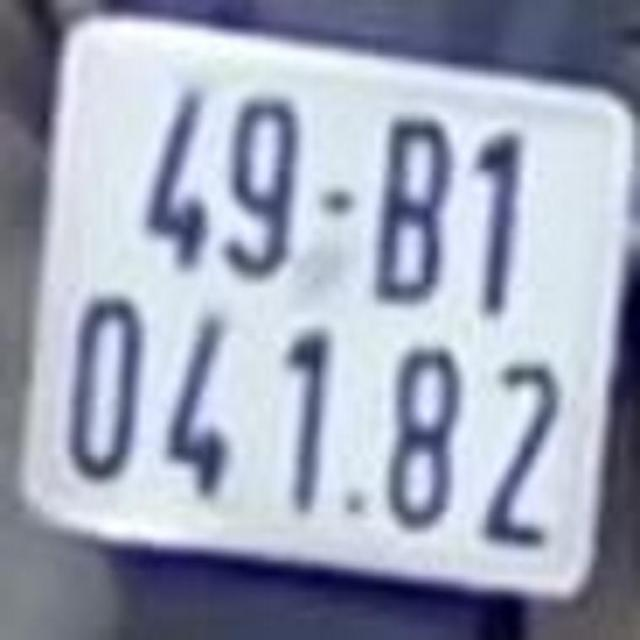0: (59, 284, 141, 479)
1: (466, 119, 530, 316), (272, 319, 336, 516)
2: (480, 355, 563, 551)
4: (160, 304, 237, 499), (136, 79, 212, 266)
8: (384, 338, 462, 533)
9: (226, 90, 299, 281)
B: (376, 110, 452, 304)
